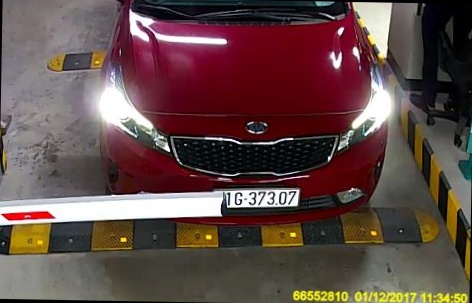plate: (217, 176, 301, 216)
